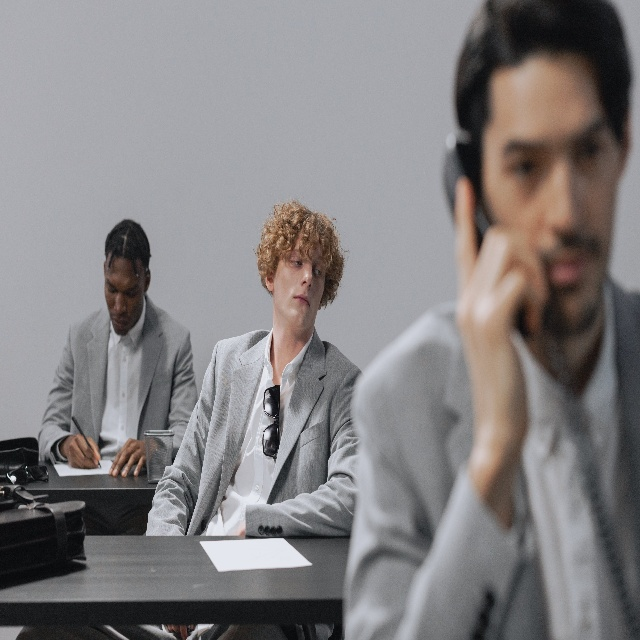Gafas: (262, 384, 281, 460), (6, 464, 49, 485)
Sin_guantes: (455, 175, 549, 477), (108, 438, 147, 478), (66, 434, 101, 470), (166, 624, 194, 640), (144, 267, 150, 292), (265, 274, 273, 291)
